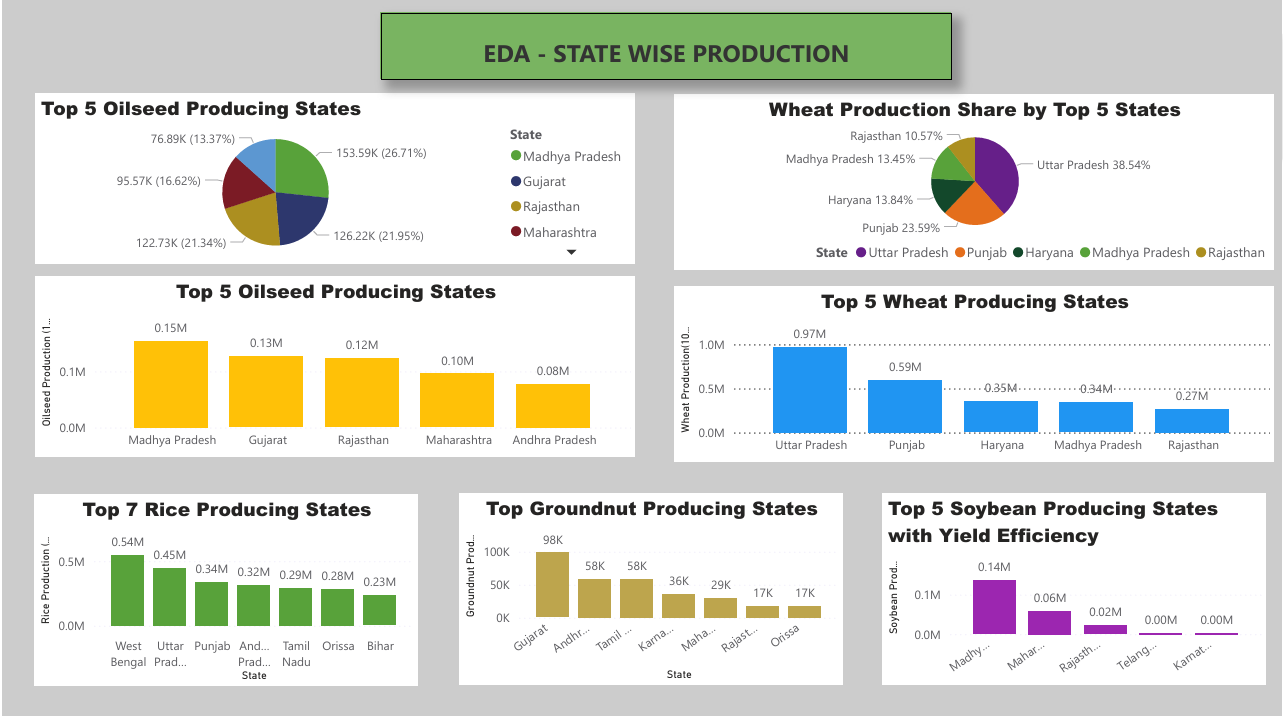

Layout of this report page (visuals, bound fields, positions):
{"tool":"powerbi","page":{"name":"state wise trend","canvas":[1280,720],"ordinal":0},"visuals":[{"type":"columnChart","title":"Top 7 Rice Producing States","fields":{"Category":["agri_cleaned.State"],"Y":["Sum(agri_cleaned.Rice_Prod_1000t)"]},"box":[32,496,384,192],"z":0},{"type":"columnChart","title":"Top 5 Wheat Producing States","fields":{"Category":["agri_cleaned.State"],"Y":["Sum(agri_cleaned.Wheat_Prod_1000t)"]},"box":[672,288,600,176],"z":1000},{"type":"pieChart","title":"Wheat Production Share by Top 5 States","fields":{"Category":["agri_cleaned.State"],"Y":["Sum(agri_cleaned.Wheat_Prod_1000t)"]},"box":[672,96,600,176],"z":2000},{"type":"pieChart","title":"Top 5 Oilseed Producing States","fields":{"Category":["agri_cleaned.State"],"Y":["Sum(agri_cleaned.Oilseed_Prod_1000t)"]},"box":[33.4,94.6,600,171.1],"z":3000},{"type":"columnChart","title":"Top Groundnut Producing States","fields":{"Category":["agri_cleaned.State"],"Y":["Sum(agri_cleaned.Groundnut_Prod_1000t)"]},"box":[456.9,495.4,384.2,192.1],"z":4000},{"type":"clusteredColumnChart","title":"Top 5 Soybean Producing States with Yield Efficiency","fields":{"Category":["agri_cleaned.State"],"Y":["Sum(agri_cleaned.Soybean_Prod_1000t)"]},"box":[879.6,495.4,384.2,192.1],"z":5000},{"type":"columnChart","title":"Top 5 Oilseed Producing States","fields":{"Category":["agri_cleaned.State"],"Y":["Sum(agri_cleaned.Oilseed_Prod_1000t)"]},"box":[33.4,278.3,600,180.9],"z":6000},{"type":"textbox","box":[378.4,13.9,570.4,66.8],"z":7000}]}

Visuals, with their boxes in screenshot pixels (x1, y1, x2, y2), scaled from the page's 1280x720 canvas onto the 1283x716 screenshot:
"Top 7 Rice Producing States" columnChart: 32 493 417 684
"Top 5 Wheat Producing States" columnChart: 674 286 1275 461
"Wheat Production Share by Top 5 States" pieChart: 674 95 1275 270
"Top 5 Oilseed Producing States" pieChart: 33 94 635 264
"Top Groundnut Producing States" columnChart: 458 493 843 684
"Top 5 Soybean Producing States with Yield Efficiency" clusteredColumnChart: 882 493 1267 684
"Top 5 Oilseed Producing States" columnChart: 33 277 635 457
textbox: 379 14 951 80
